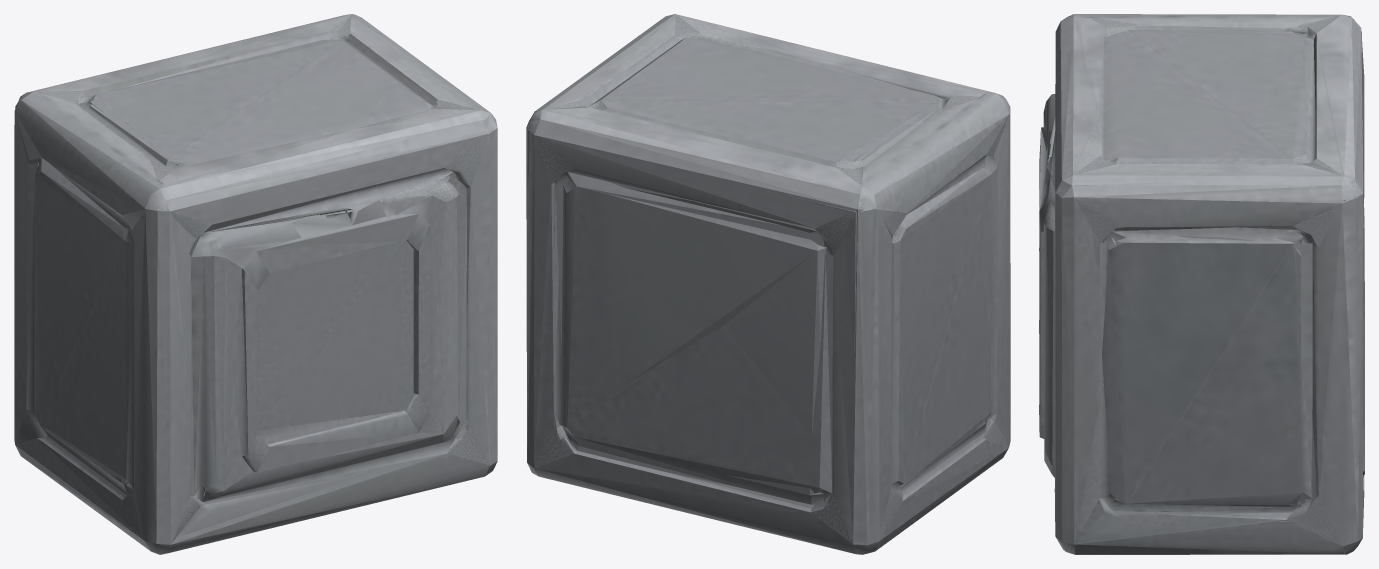
Rendered from deco_bloc.glb.
3 renders of one model, left to right at view 1: azimuth 30°, elevation 25°; view 2: azimuth 150°, elevation 25°; view 3: azimuth 270°, elevation 25°, orthographic. The views are drawn at different scales.
Visible parts, largest first — view 1: mesh_node; view 2: mesh_node; view 3: mesh_node.
Part boxes in pixels (bbox=[...]): mesh_node: bbox=[14, 14, 497, 554]; mesh_node: bbox=[526, 14, 1010, 554]; mesh_node: bbox=[1039, 14, 1364, 554].
Bounding box in the file's own units: 1.9 × 1.9 × 1.47.
Materials: 1 (1 with a texture image).
